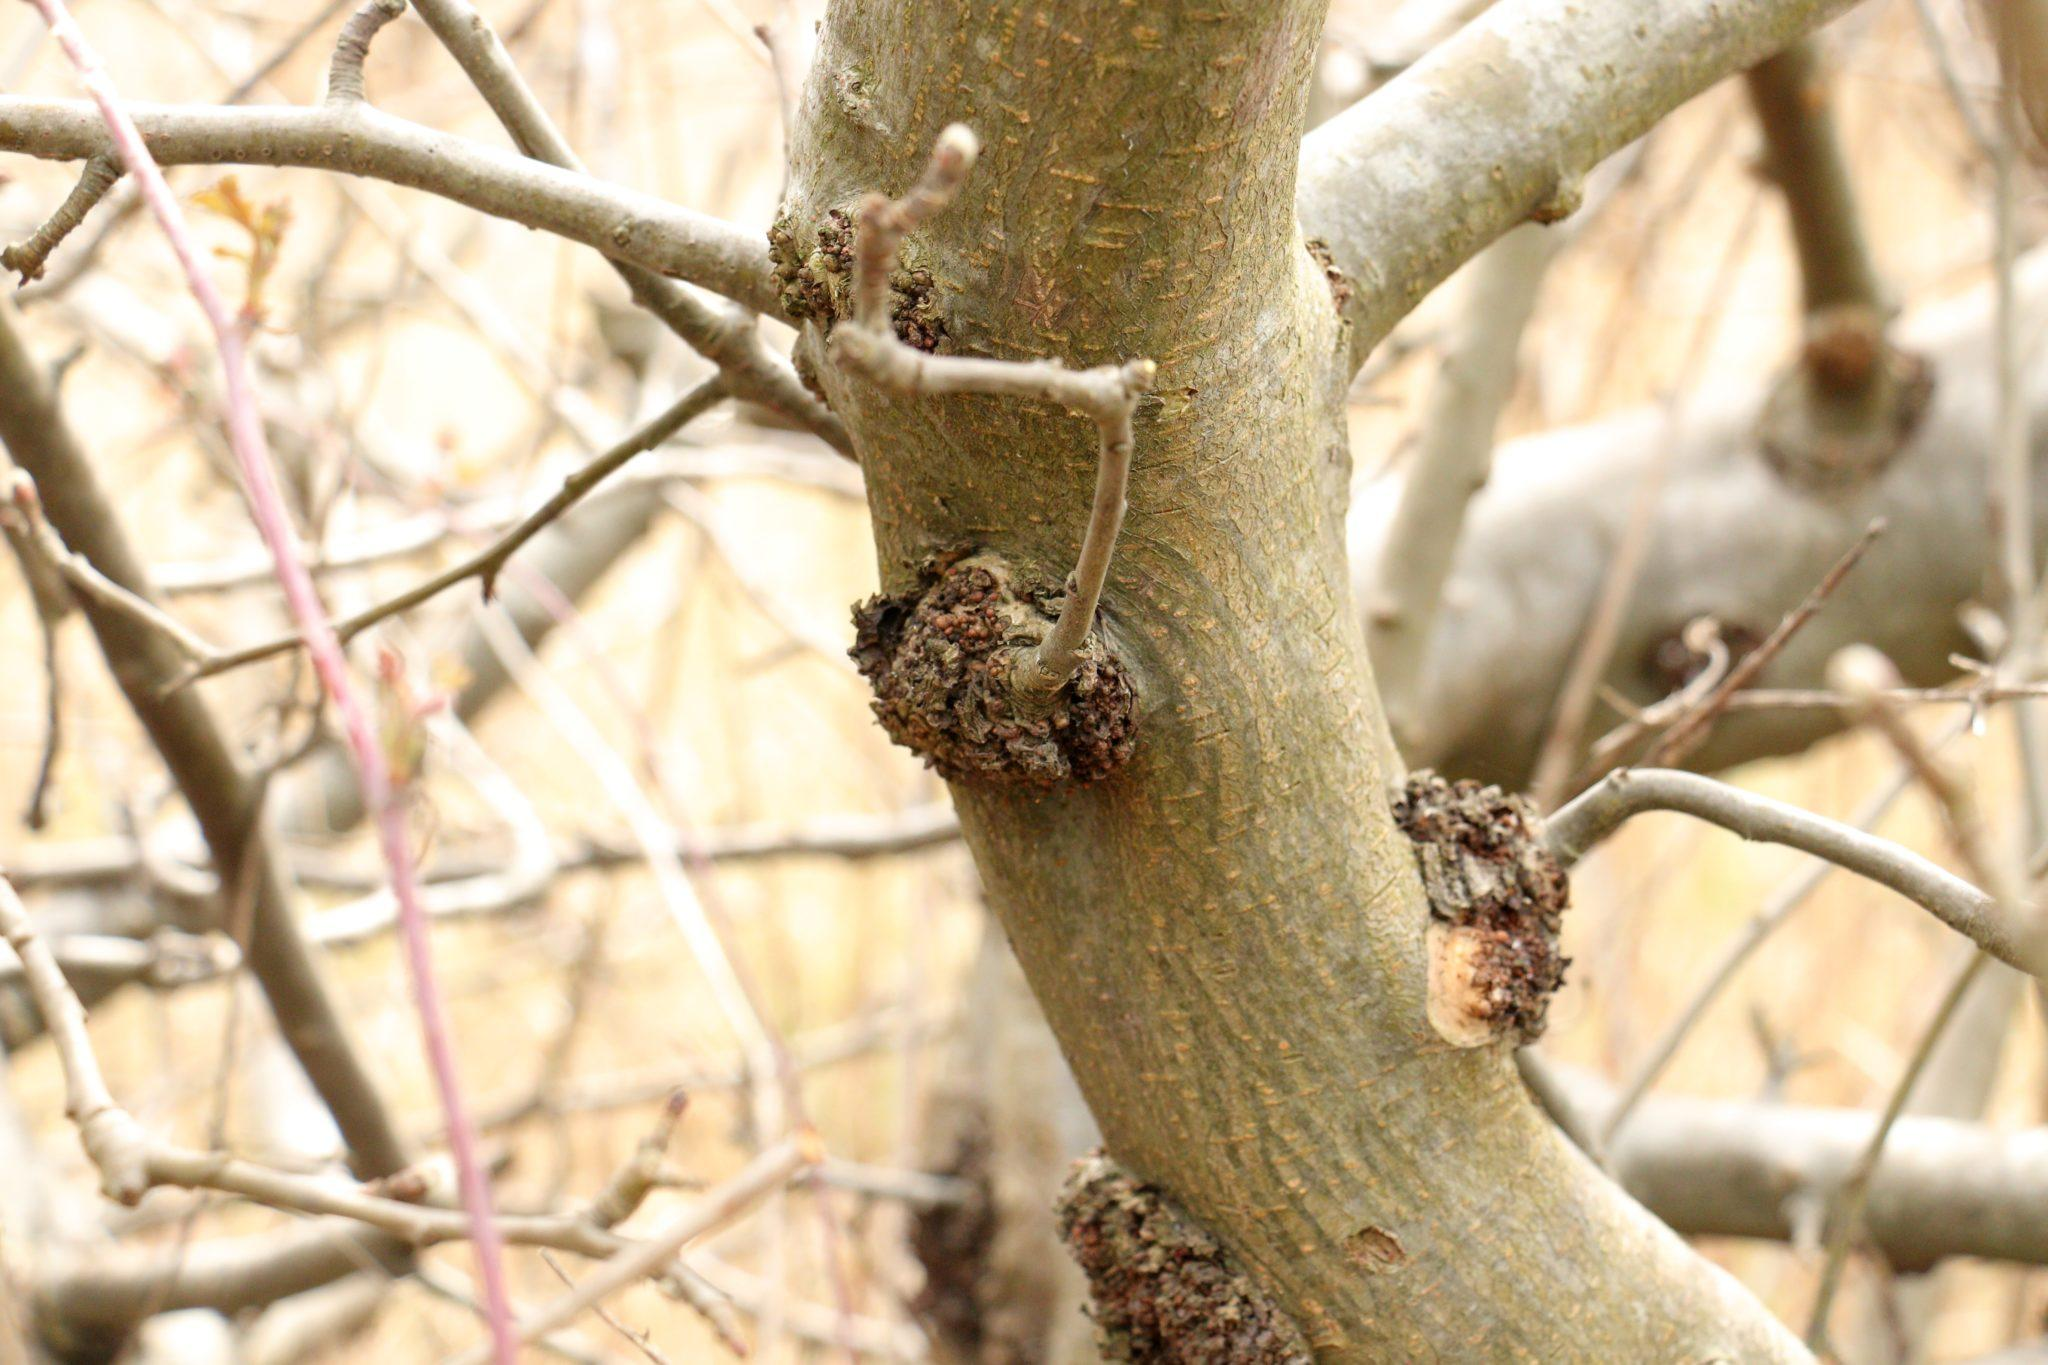kap: (850, 550, 1137, 794), (1058, 1156, 1306, 1363), (1393, 772, 1567, 1044), (769, 209, 856, 328), (886, 267, 943, 349)
